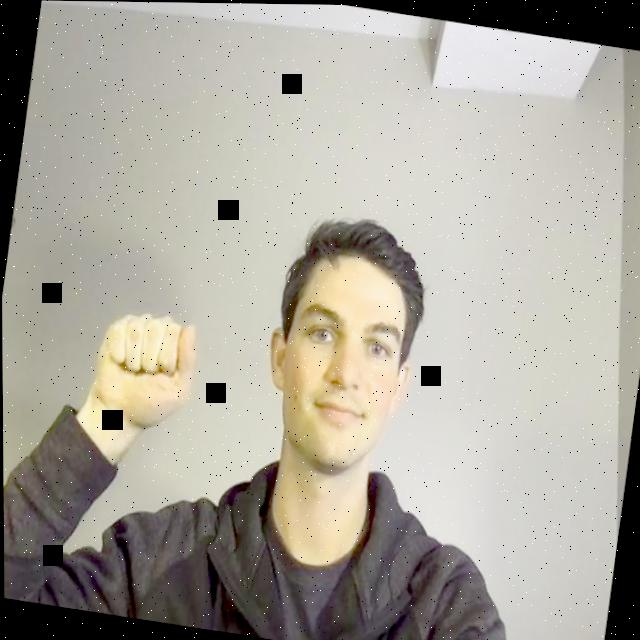Rock: (86, 304, 205, 430)
